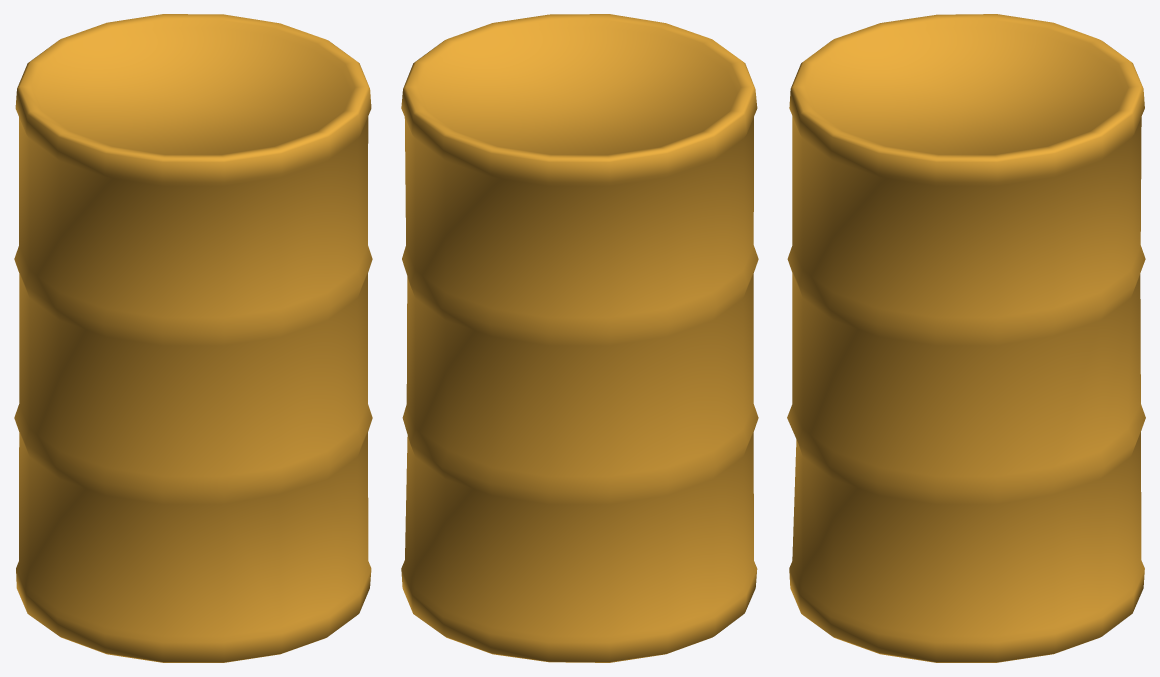
The model's file is barrel.fbx.
3 views of the same model, side by side, from view 1: azimuth 30°, elevation 25°; view 2: azimuth 150°, elevation 25°; view 3: azimuth 270°, elevation 25° (orthographic).
Parts seen in each view (by area): view 1: Barrel_low002; view 2: Barrel_low002; view 3: Barrel_low002.
Part boxes in pixels (bbox=[...]): Barrel_low002: bbox=[14, 14, 372, 662]; Barrel_low002: bbox=[401, 14, 758, 662]; Barrel_low002: bbox=[787, 14, 1145, 662].
Bounding box in the file's own units: 3983 × 6277 × 4046.
